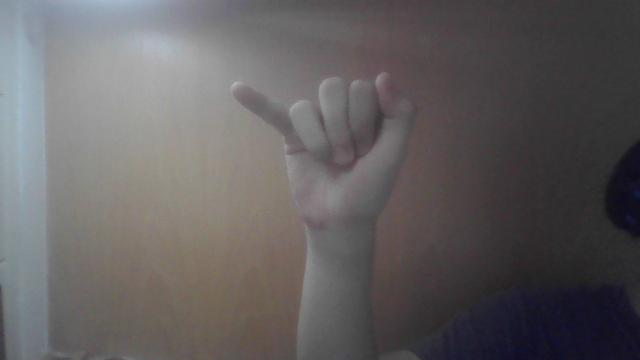Right: (220, 74, 430, 228)
